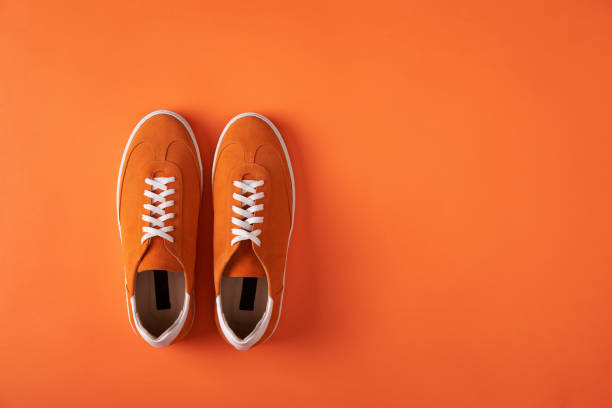Footwear: (107, 107, 204, 354)
